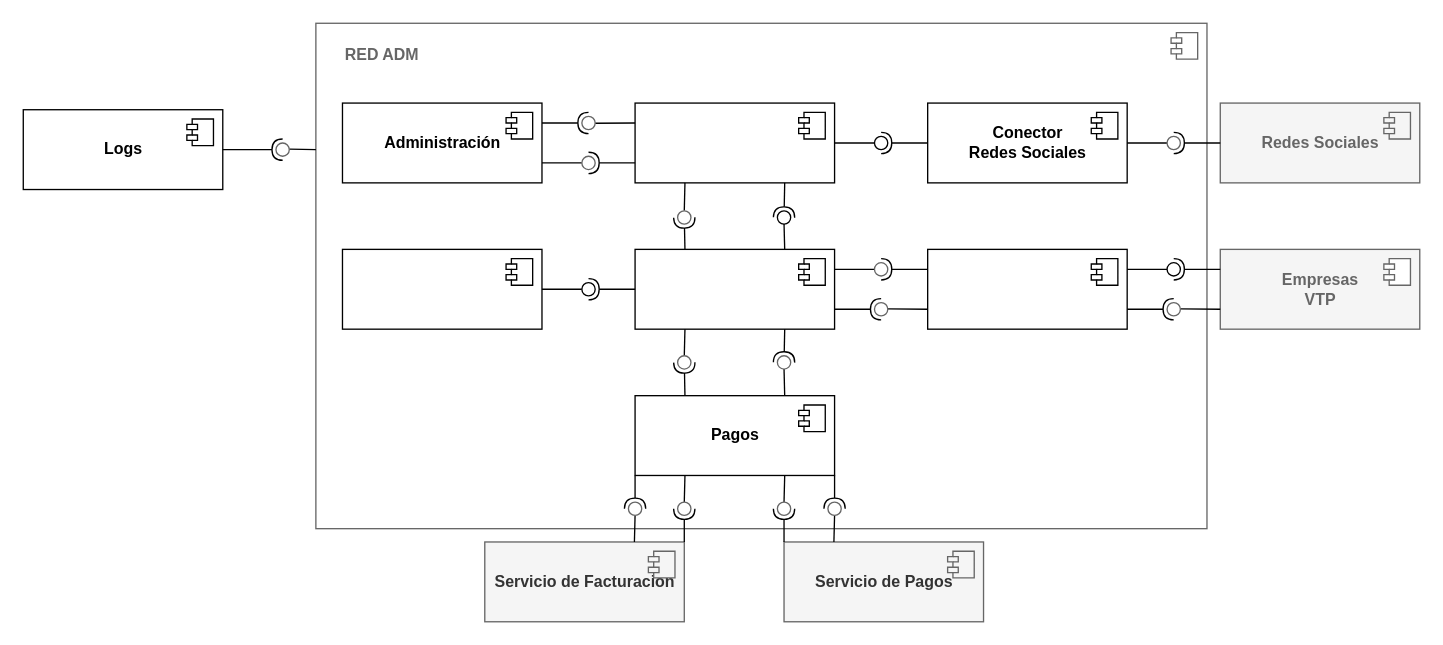
The diagram is 1443 pixels wide and 645 high, and some of its shapes have lost their labels. Each missing label, with the centre of its shape:
Boletos: [734,288]
Portal: [734,142]
Rutas: [441,288]
Servicios Web: [1026,288]
